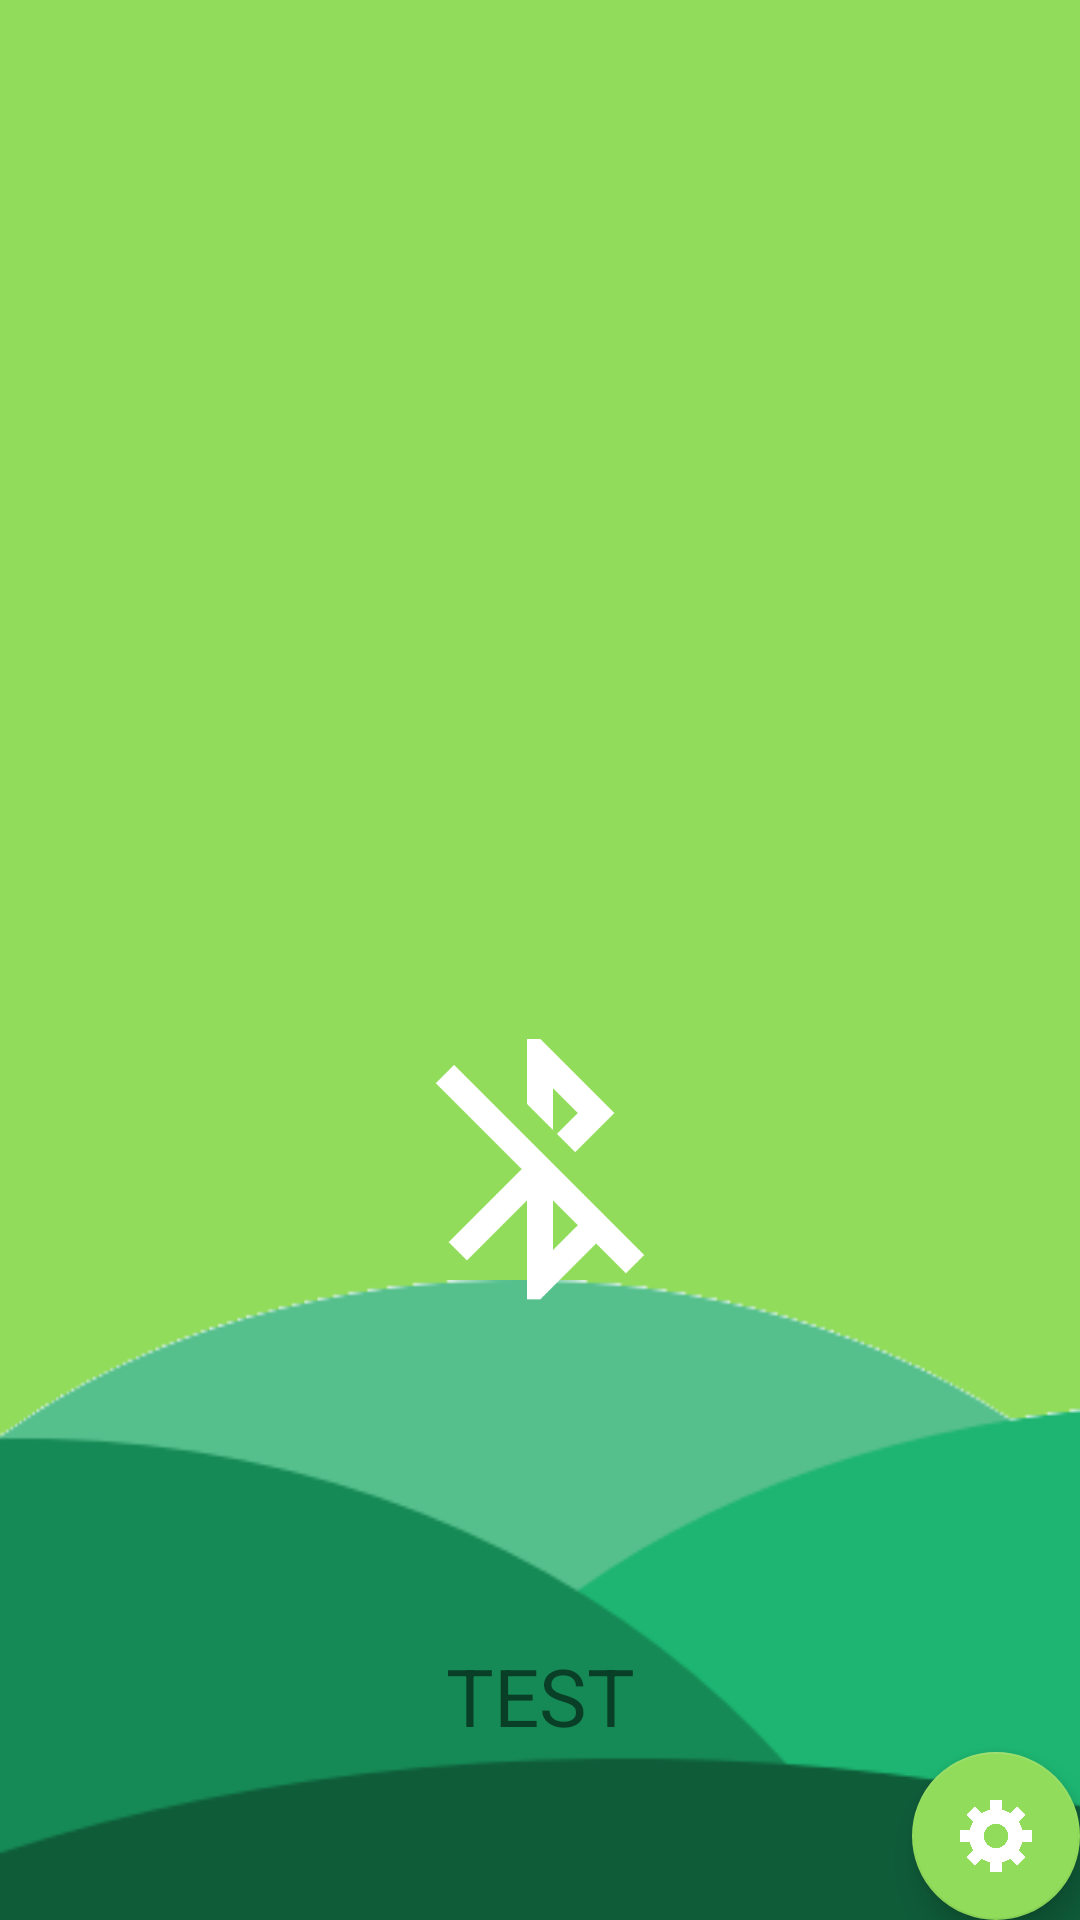

Icons on this 1080×1920 Android screen, each with the point to tap as point (x, y):
setting: point (996, 1836)
